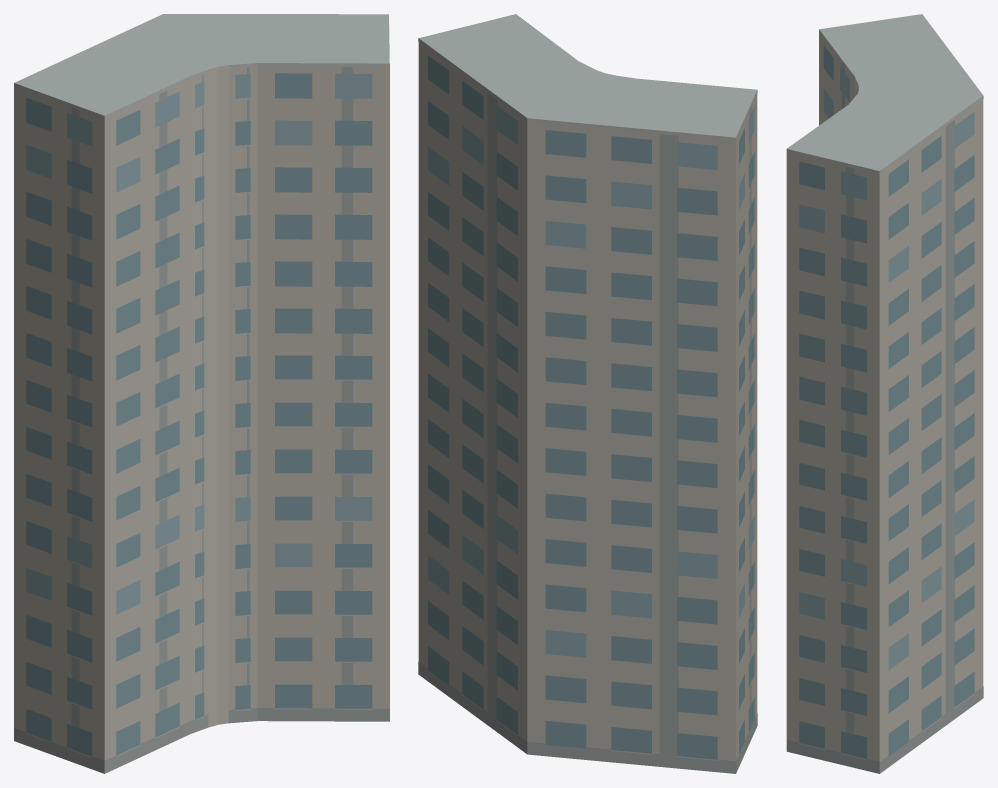
File: survey-upis-32475320.glb
3 views of the same model, side by side, from view 1: azimuth 30°, elevation 25°; view 2: azimuth 150°, elevation 25°; view 3: azimuth 270°, elevation 25° (orthographic). The views are drawn at different scales.
Visible parts, largest first — view 1: survey-upis-32475320.tmp; view 2: survey-upis-32475320.tmp; view 3: survey-upis-32475320.tmp.
Boxes of the visible parts, x1,y1,x2,y2 form: survey-upis-32475320.tmp: [14, 14, 389, 773]; survey-upis-32475320.tmp: [418, 14, 757, 773]; survey-upis-32475320.tmp: [786, 14, 983, 773].
Size of the model in its own units: 23.88 by 42.7 by 12.65.
